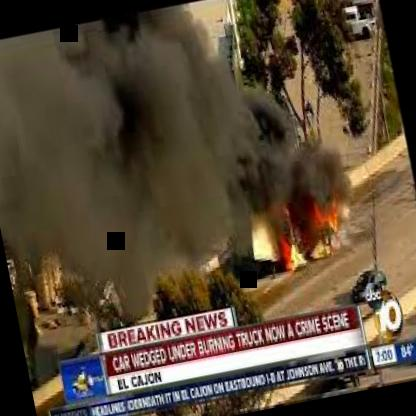fire: (162, 81, 361, 278), (0, 47, 148, 182)
